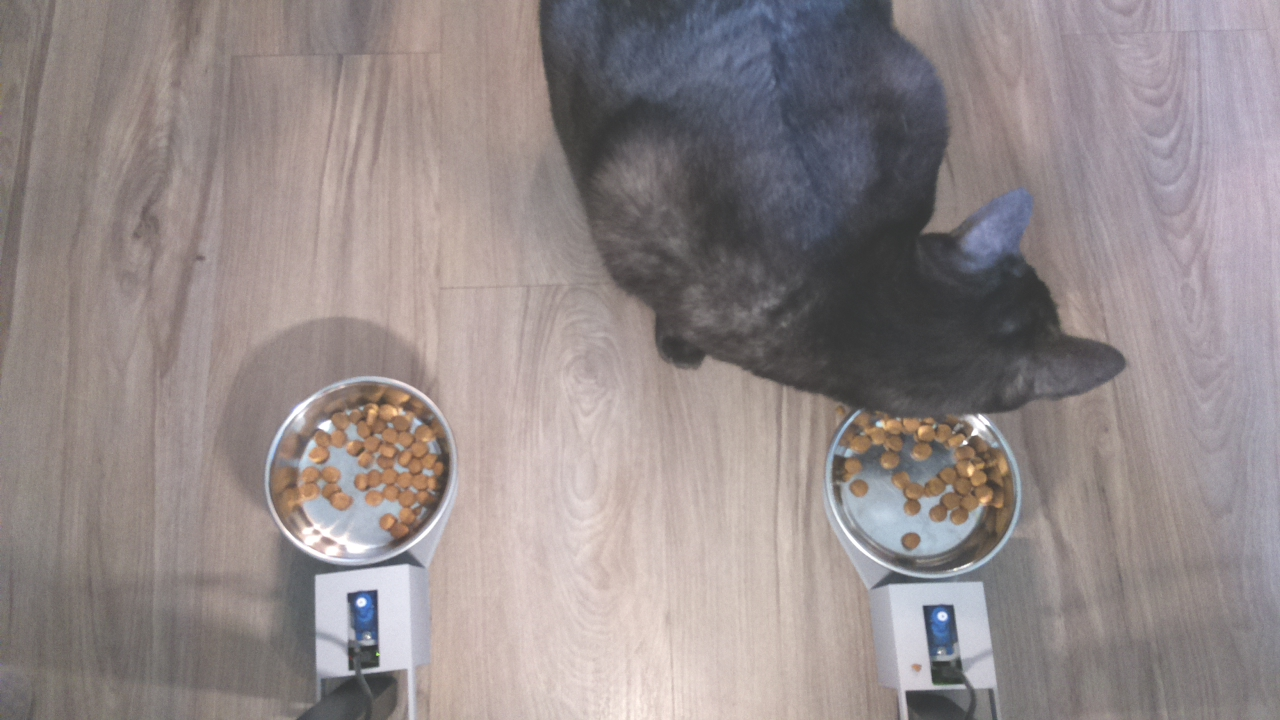open_bowl: (262, 372, 461, 565), (819, 403, 1029, 582)
saki: (727, 169, 1139, 432)
